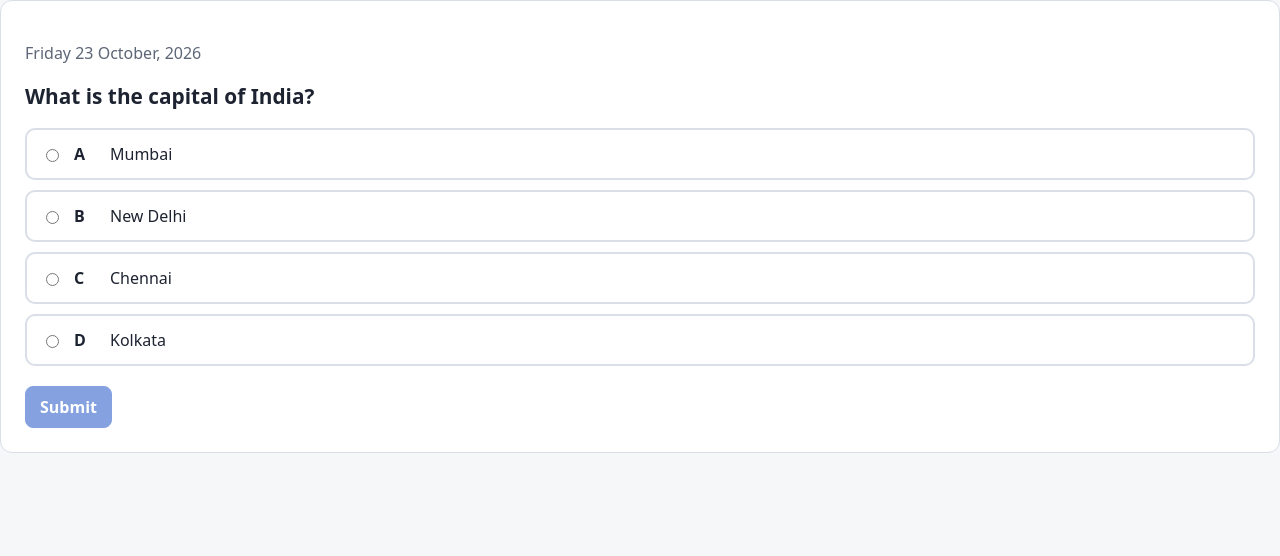
Quiz › recovers from a duplicate submission by showing the existing response
Click the radio button labelled "B New Delhi".
click(52, 218)  # box [46,211,59,224]
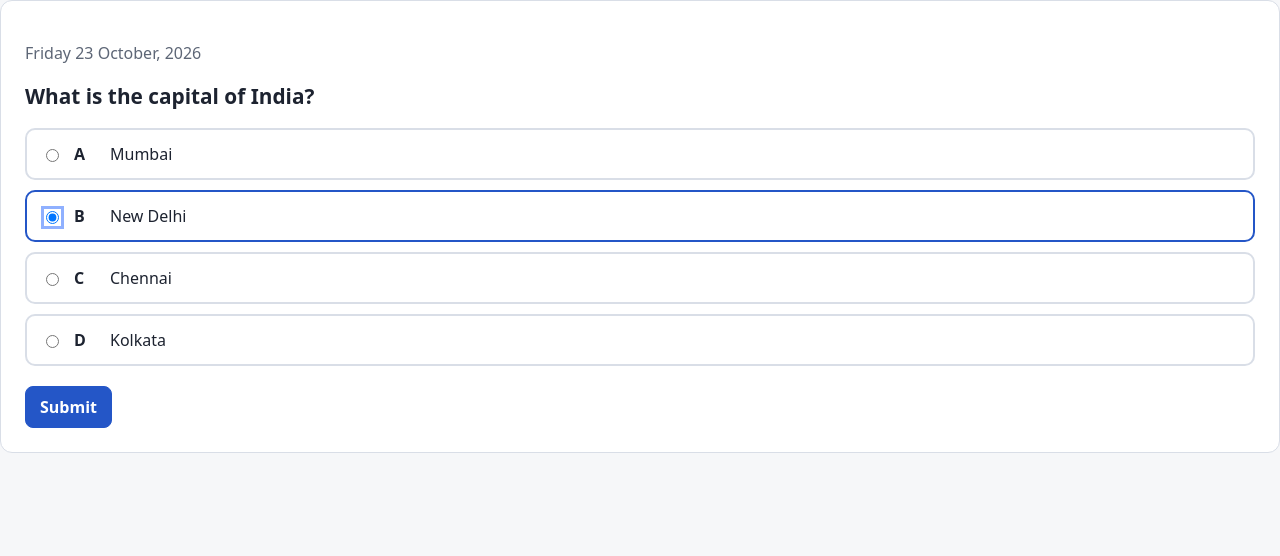
Click the button "Submit".
click(68, 407)  # box [25,386,112,428]
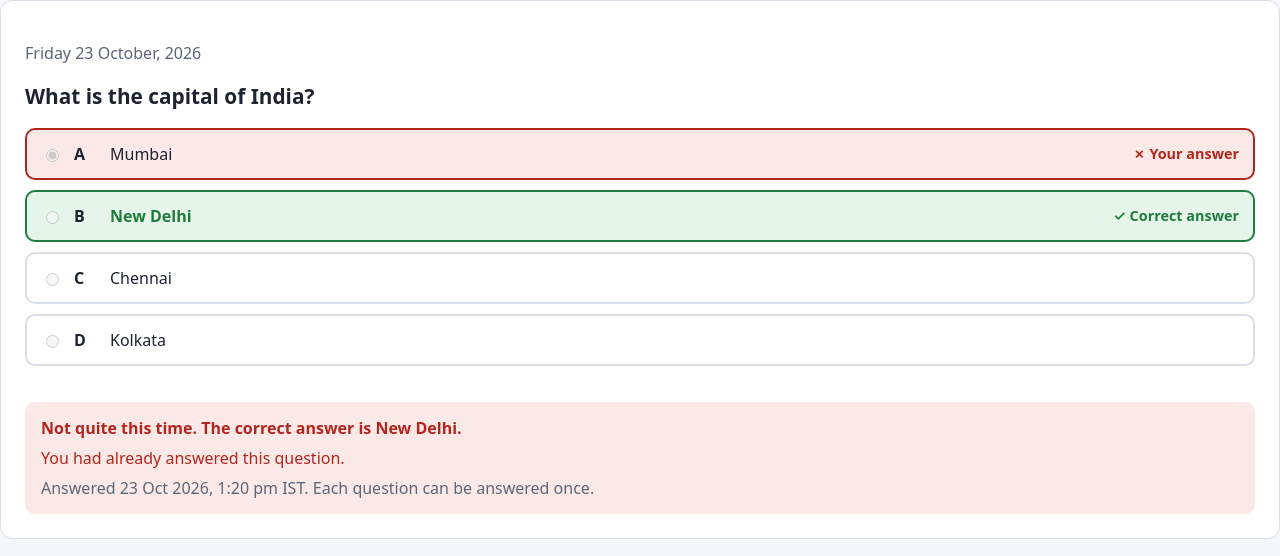
Result: the text "You had already answered this question." is shown at [41,447,345,469]
Result: the radio button labelled "A Mumbai ✗ Your answer" is checked at [46,149,59,162]
